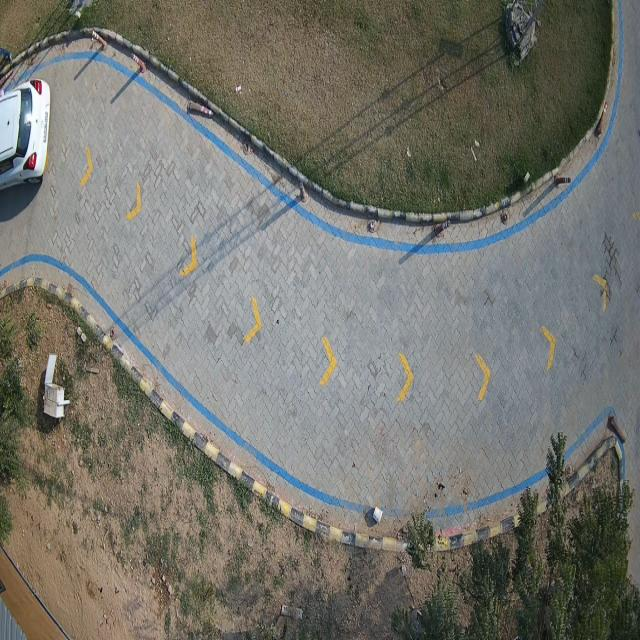car: (0, 78, 50, 204)
